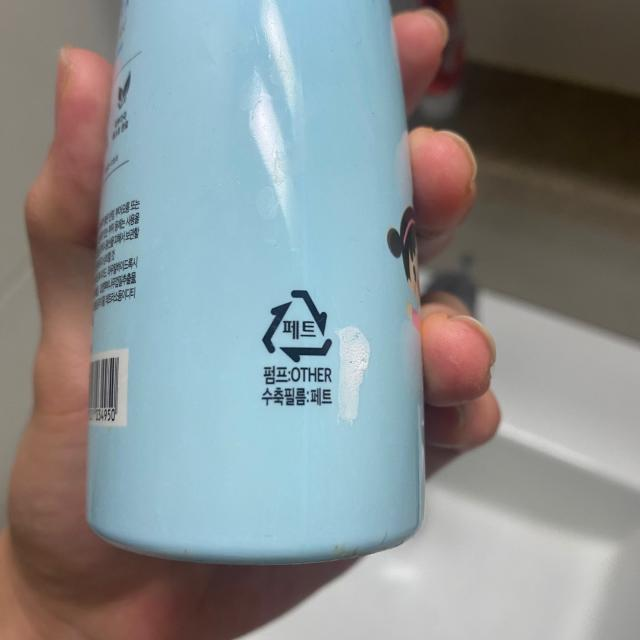PET: (258, 284, 339, 366)
